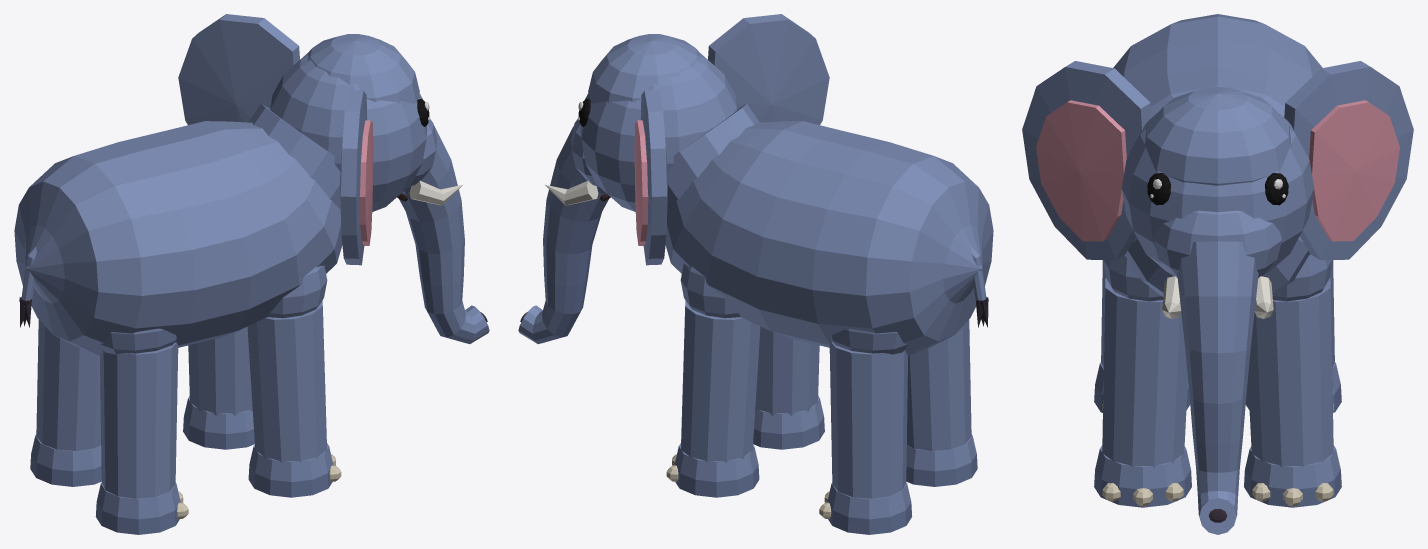
The model's file is elephant.glb.
3 views of the same model, side by side, from view 1: azimuth 30°, elevation 25°; view 2: azimuth 150°, elevation 25°; view 3: azimuth 270°, elevation 25° (orthographic). The views are drawn at different scales.
Visible parts, largest first — view 1: body, head, leg_br, leg_fr, leg_bl, leg_fl, tail; view 2: body, head, leg_bl, leg_fl, leg_br, leg_fr, tail; view 3: head, leg_fl, leg_fr, body, leg_bl, leg_br.
Boxes of the visible parts, <box> form: body: <box>14,121,342,355</box>; head: <box>178,14,489,343</box>; leg_br: <box>95,328,188,534</box>; leg_fr: <box>247,265,341,497</box>; leg_bl: <box>30,319,101,486</box>; leg_fl: <box>183,326,254,449</box>; tail: <box>19,246,36,327</box>; body: <box>665,121,993,355</box>; head: <box>518,14,829,343</box>; leg_bl: <box>819,328,912,534</box>; leg_fl: <box>666,264,760,497</box>; leg_br: <box>906,319,977,486</box>; leg_fr: <box>753,326,824,449</box>; tail: <box>971,246,988,327</box>; head: <box>1022,61,1413,534</box>; leg_fl: <box>1244,254,1341,507</box>; leg_fr: <box>1094,255,1191,507</box>; body: <box>1113,14,1322,296</box>; leg_bl: <box>1245,260,1341,412</box>; leg_br: <box>1094,260,1190,412</box>.
Size of the model in its own units: 3.2 by 2.57 by 2.04.
